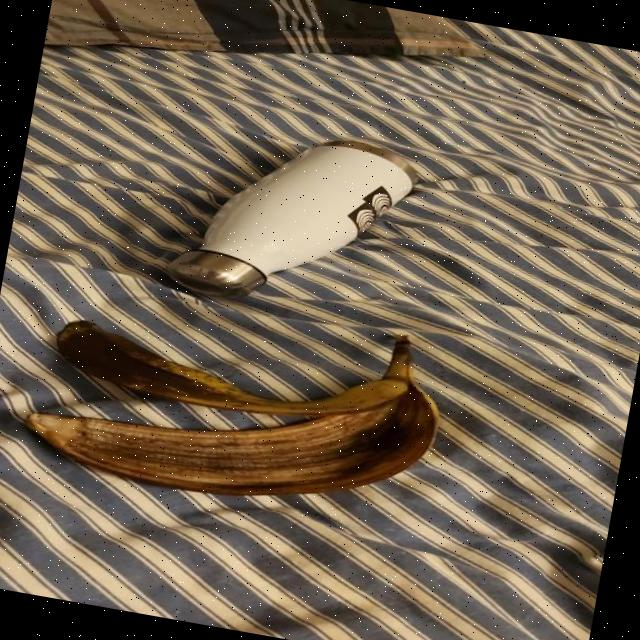banana-peel: (17, 268, 453, 532)
